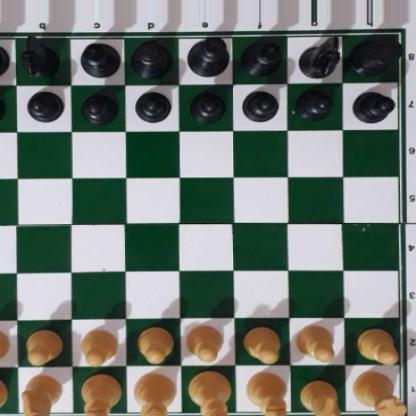black-bishop: (239, 41, 284, 78), (77, 43, 122, 78)
black-king: (184, 35, 230, 78)
black-knight: (299, 32, 341, 80), (19, 33, 57, 79)
black-pawn: (352, 88, 393, 123), (294, 87, 333, 120), (26, 88, 63, 122), (242, 87, 278, 121), (134, 90, 172, 122), (81, 90, 116, 123), (190, 89, 224, 122), (0, 91, 3, 122)
black-queen: (130, 38, 174, 80)
black-rook: (352, 31, 400, 75), (0, 37, 9, 77)
white-bishop: (244, 371, 286, 416), (81, 371, 118, 416)
white-king: (188, 370, 233, 416)
white-knight: (22, 373, 59, 416), (299, 378, 339, 416)
white-pawn: (184, 325, 224, 365), (296, 323, 336, 361), (357, 327, 398, 363), (242, 325, 280, 362), (80, 328, 117, 366), (136, 326, 173, 363), (24, 329, 61, 364), (0, 328, 8, 365)
white-queen: (132, 370, 176, 416)
white-rook: (355, 368, 403, 416), (0, 370, 6, 416)
